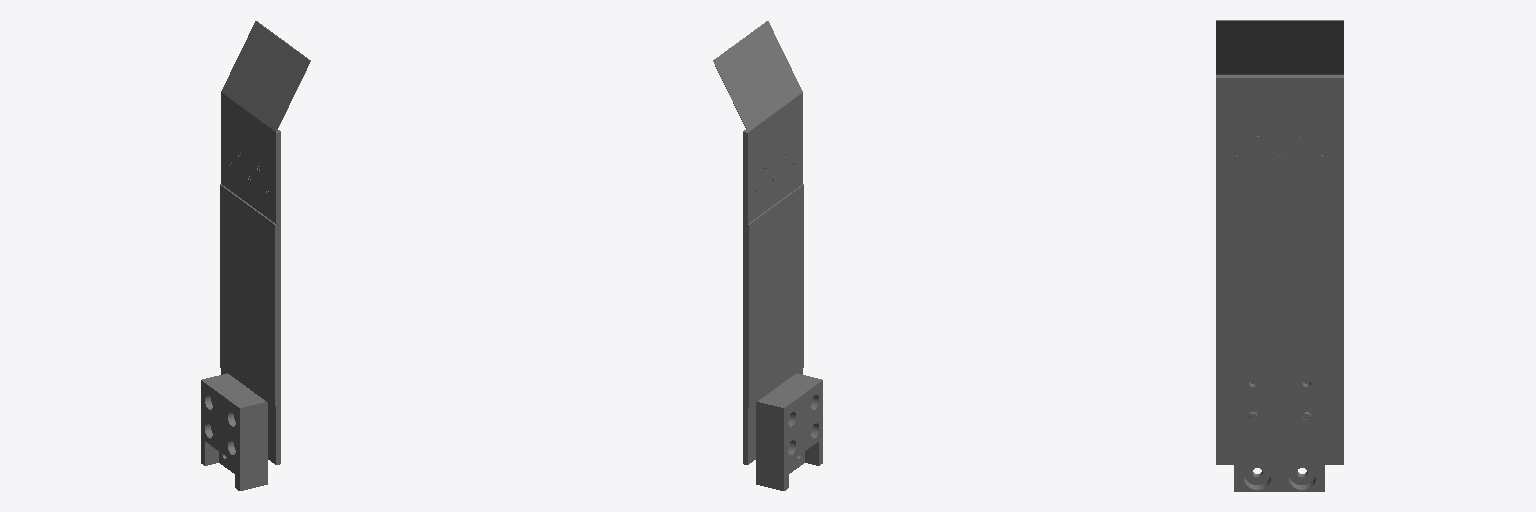
URDF robot description (wsg_50):
<?xml version="1.0"?>
<robot name="wsg_50" xmlns:xacro="http://ros.org/wiki/xacro">

 <!-- BASE LINK -->
 <link name="base_link">
      <inertial>
          <mass value="1.2" />
          <origin xyz="0 0 0" />
          <inertia  ixx="1.0" ixy="0.0"  ixz="0.0"  iyy="1.0"  iyz="0.0"  izz="1.0" />
      </inertial>

      <visual>
          <origin xyz="0.0 0 0" rpy="0 0 0" />
          <geometry>
             <mesh filename="package://apc_config/models/wsg_50/meshes/WSG50_110.stl" scale="1 1 1"/>
             <!--box size="0.146 0.05 0.0735"/-->
          </geometry>
          <material name="grey">
             <color rgba="0.5 0.5 0.5 1"/>
          </material>
      </visual>

      <collision>
          <origin xyz="0.0 0 0" rpy="0 0 0" />
          <geometry>
             <!--box size="0.146 0.05 0.0735"/-->
             <mesh filename="package://apc_config/models/wsg_50/meshes/WSG50_110.stl" scale="1 1 1"/>
          </geometry>
     </collision>
 </link>


  <!-- GRIPPER LEFT -->

  <joint name="base_joint_gripper_left" type="prismatic">
     <limit lower="-0.055" upper="-0.0027" effort="1.0" velocity="1.0"/>
     <origin xyz="0 0 0" rpy="0 0 0" />      <!--origin xyz="-0.0067 0 0.049" rpy="0 0 0" /-->
     <parent link="base_link"/>
     <child link="gripper_left" />
     <axis xyz="1 0 0"/>
     <limit effort="100" velocity="100"/>
  </joint>

  <link name="gripper_left">
      <inertial>
          <mass value="0.1" />
          <origin xyz="0 0 0" />
      <inertia ixx="1.0" ixy="0.0" ixz="0.0"
               iyy="1.0" iyz="0.0" 
               izz="1.0" />
      </inertial>

      <visual>
          <origin xyz="0.0 0 0" rpy="0 0 0" />
          <geometry>
             <mesh filename="package://apc_config/models/wsg_50/meshes/GUIDE_WSG50_110.stl" scale="0.001 0.001 0.001"/>
             <!--box size="0.0175 0.03 0.024"/-->
          </geometry>
          <material name="black">
        <color rgba="0.5 0.5 0.5 1"/>
        </material>
      </visual>

      <collision>
          <origin xyz="0 0 0" rpy="0 0 0" />
          <geometry>
             <!--box size="0.0175 0.03 0.024"/-->
             <mesh filename="package://apc_config/models/wsg_50/meshes/GUIDE_WSG50_110.stl" scale="0.001 0.001 0.001"/>
         </geometry>
     </collision>
  </link>



  <!-- LEFT FINGER -->

  <joint name="guide_joint_finger_left" type="fixed">
     <origin xyz="0 0 0.023" rpy="0 0 0" />
     <parent link="gripper_left"/>
     <child link="finger_left" />
     <axis xyz="1 0 0"/>
     <limit effort="100" velocity="100"/>
  </joint>

  <link name="finger_left">
      <inertial>
          <mass value="0.1" />
          <origin xyz="0 0 0" />
      <inertia ixx="1.0" ixy="0.0" ixz="0.0"
               iyy="1.0" iyz="0.0" 
               izz="1.0" />
      </inertial>

      <visual>
          <origin xyz="0.06585 -0.0905 0.2365" rpy="-1.57079632679 1.57079632679 0.0" />
          <geometry>
             <mesh filename="package://apc_config/models/wsg_50/meshes/SpatulaFingersTop.stl" scale="0.001 0.001 0.001"/>
          </geometry>
          <material name="black">
              <color rgba="0.5 0.5 0.5 1"/>
          </material>
      </visual>

      <collision>
          <origin xyz="0.06585 -0.0905 0.2365" rpy="-1.57079632679 1.57079632679 0.0" />
          <geometry>
             <mesh filename="package://apc_config/models/wsg_50/meshes/SpatulaFingersTop.stl" scale="0.001 0.001 0.001"/>
         </geometry>
     </collision>
  </link>


  <!-- GRIPPER RIGHT -->

  <joint name="base_joint_gripper_right" type="prismatic">
     <limit lower="0.0027" upper="0.055" effort="1.0" velocity="1.0"/>
     <origin xyz="0 0 0" rpy="0 0 3.14159" />
     <parent link="base_link"/>
     <child link="gripper_right" />
     <axis xyz="-1 0 0"/>
     <limit effort="100" velocity="100"/>
  </joint>

    <link name="gripper_right">
      <inertial>
          <mass value="0.1" />
          <origin xyz="0 0 0" />
      <inertia ixx="1.0" ixy="0.0" ixz="0.0"
               iyy="1.0" iyz="0.0" 
               izz="1.0" />
      </inertial>

      <visual>
          <origin xyz="0.0 0 0" rpy="0 0 0" />
          <geometry>
             <mesh filename="package://apc_config/models/wsg_50/meshes/GUIDE_WSG50_110.stl" scale="0.001 0.001 0.001"/>
             <!--box size="0.0175 0.03 0.024"/-->
          </geometry>
          <material name="black">
              <color rgba="0.5 0.5 0.5 1"/>
          </material>
      </visual>

      <collision>
          <origin xyz="0 0 0" rpy="0 0 0" />
          <geometry>
             <!--box size="0.0175 0.03 0.024"/-->
             <mesh filename="package://apc_config/models/wsg_50/meshes/GUIDE_WSG50_110.stl" scale="0.001 0.001 0.001"/>
         </geometry>
     </collision>
  </link>

  <!-- RIGHT FINGER -->

  <joint name="guide_joint_finger_right" type="fixed">
     <origin xyz="0 0 0.023" rpy="0 0 0" />
     <parent link="gripper_right"/>
     <child link="finger_right" />
     <axis xyz="1 0 0"/>
     <limit effort="100" velocity="100"/>
  </joint>

  <link name="finger_right">
      <inertial>
          <mass value="0.1" />
          <origin xyz="0 0 0" />
      <inertia ixx="1.0" ixy="0.0" ixz="0.0"
               iyy="1.0" iyz="0.0" 
               izz="1.0" />
      </inertial>

      <visual>
          <origin xyz="-0.09795 -0.131305709481 0.094116" rpy="-1.57079632679 -1.57079632679 0" />
          <geometry>
             <mesh filename="package://apc_config/models/wsg_50/meshes/SpatulaFingersBottom.stl" scale="0.001 0.001 0.001"/>
          </geometry>
          <material name="black">
              <color rgba="0.5 0.5 0.5 1"/>
          </material>
      </visual>

      <collision>
          <origin xyz="-0.09795 -0.131305709481 0.094116" rpy="-1.57079632679 -1.57079632679 0" />
          <geometry>
             <mesh filename="package://apc_config/models/wsg_50/meshes/SpatulaFingersBottom.stl" scale="0.001 0.001 0.001"/>
         </geometry>
     </collision>
  </link>




</robot>

--- Facts derived from the render (not from the file) ---
Views: 3 orthographic renders of the robot side by side, from view 1: azimuth 30°, elevation 25°; view 2: azimuth 150°, elevation 25°; view 3: azimuth 270°, elevation 25°.
Robot: wsg_50 — 5 links, 4 joints (2 prismatic, 2 fixed); root link base_link; default pose: all joints at 0 but 2 set to mid-range because 0 is outside their limits (base_joint_gripper_left = -0.0289, base_joint_gripper_right = 0.0289).
Links seen in each view (by area): view 1: finger_right; view 2: finger_right; view 3: finger_right.
Link boxes in pixels (<box>): finger_right: <box>201,21,310,490</box>; finger_right: <box>713,21,822,490</box>; finger_right: <box>1216,20,1343,491</box>.
Bounding box of the posed robot: 0.04 × 0.0601 × 0.2532 m (x, y, z).
Meshes: 4 distinct files referenced, 1 mesh visuals loaded (1 binary STL); not drawn: 4 (reference not matched to a file when rendering).